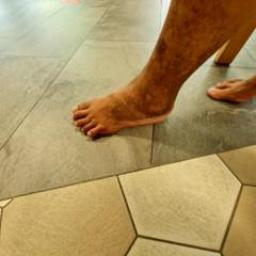Lateral View -Left Foot-: (56, 53, 206, 157)
